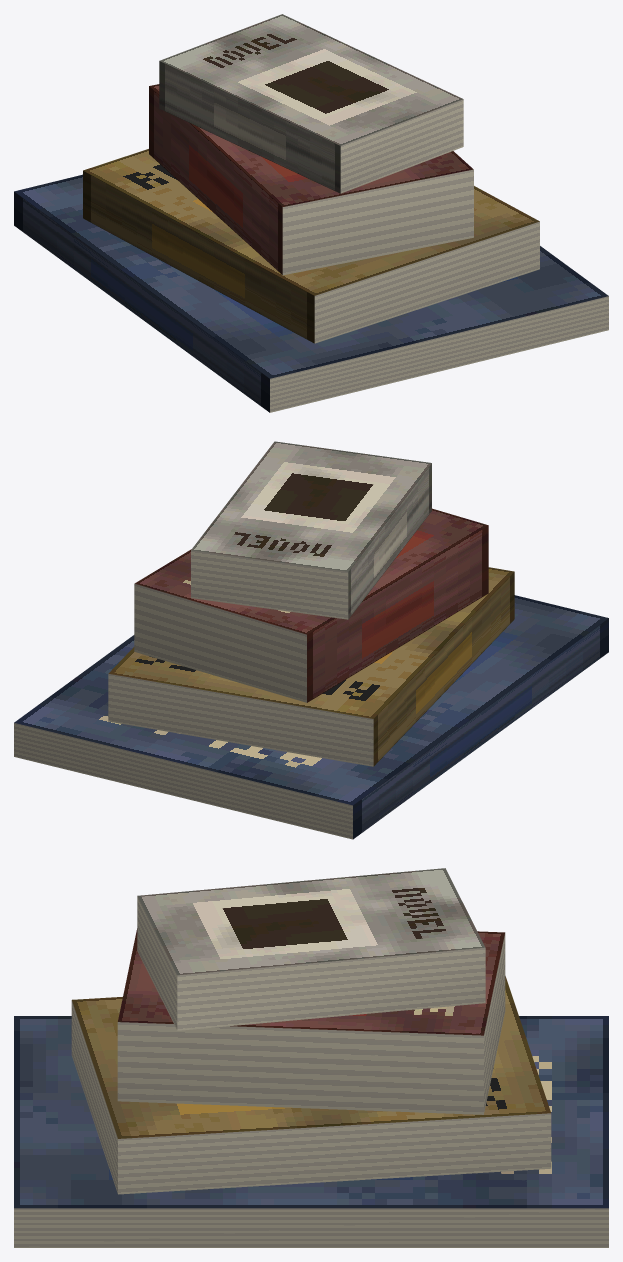
Rendered from book_stack.glb.
3 renders of one model, top to bottom at view 1: azimuth 30°, elevation 25°; view 2: azimuth 150°, elevation 25°; view 3: azimuth 270°, elevation 25°, orthographic. The views are drawn at different scales.
Visible parts, largest first — view 1: book_stack; view 2: book_stack; view 3: book_stack.
Boxes of the visible parts, bbox=[...] form: book_stack: bbox=[14, 14, 608, 412]; book_stack: bbox=[14, 441, 608, 839]; book_stack: bbox=[14, 868, 608, 1247].
Size of the model in its own units: 0.26 by 0.145 by 0.34.
1 material, 1 textured.
